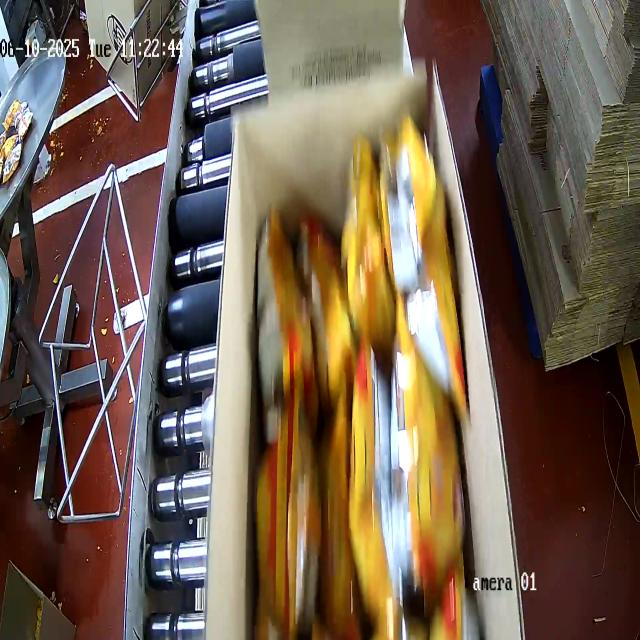FRENCH_CHEESE: (253, 121, 454, 640)
